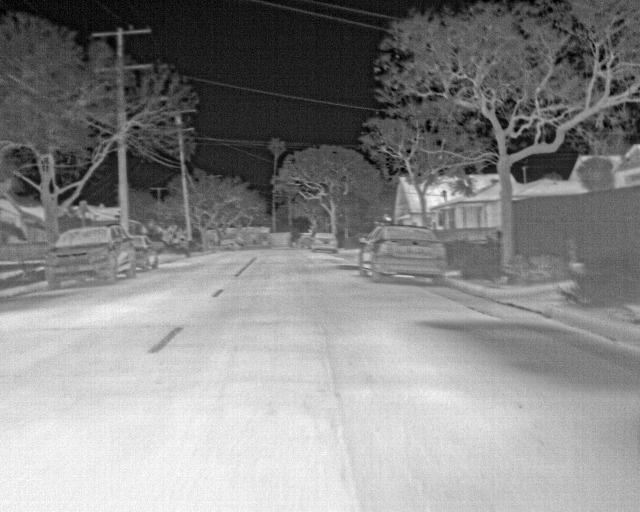car: (45, 222, 136, 292), (359, 224, 447, 284), (128, 234, 158, 272), (312, 232, 339, 253), (295, 230, 313, 251)
